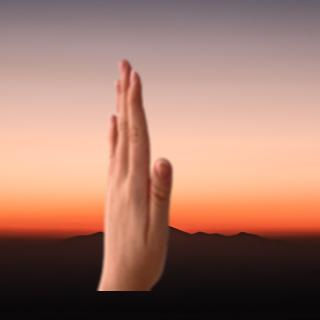Right: (97, 56, 181, 290)
